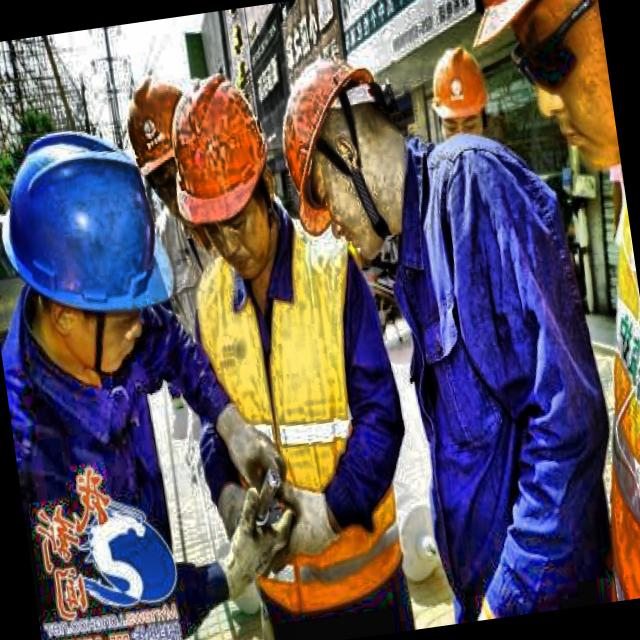helmet: (0, 93, 184, 396), (463, 0, 622, 195), (160, 65, 291, 293), (291, 53, 419, 257), (120, 65, 202, 239), (421, 38, 499, 150)
